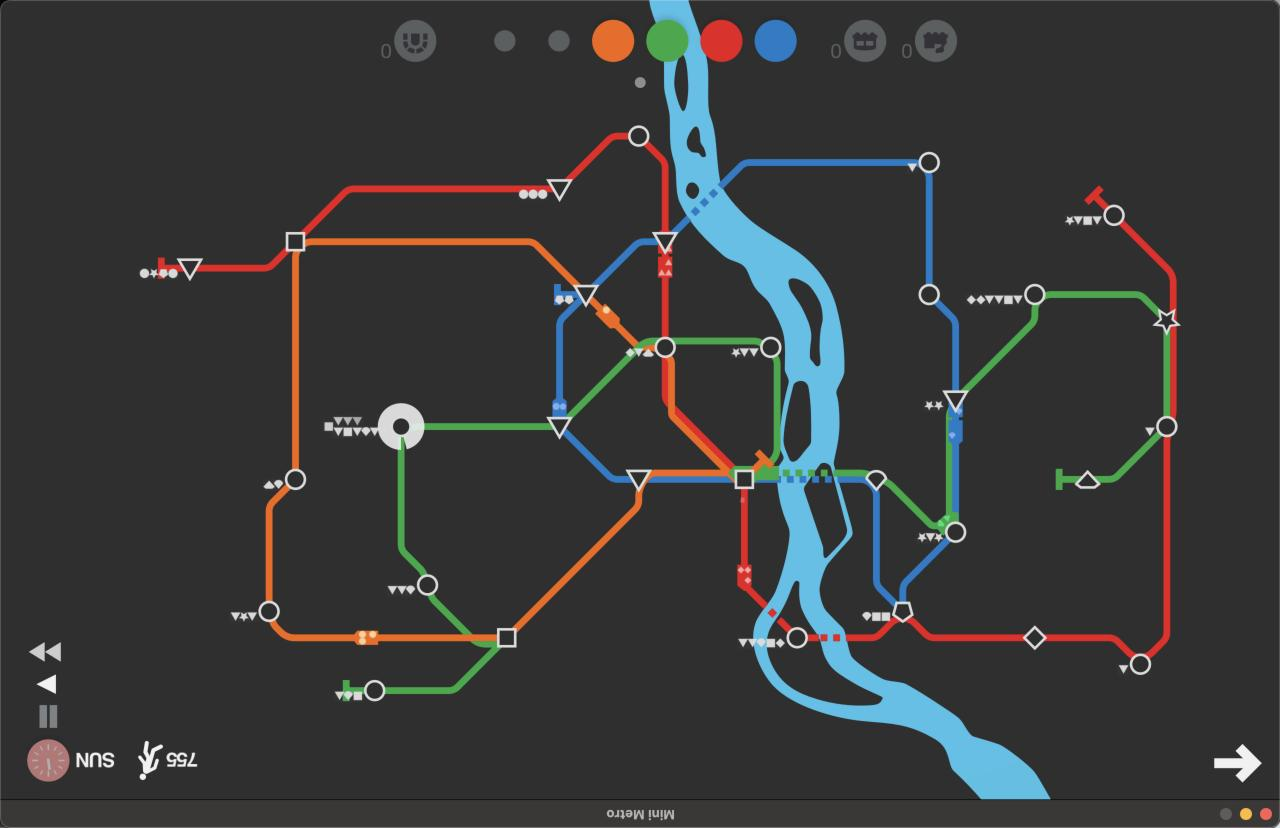BLUE LINE: (671, 158, 916, 232), (777, 475, 894, 605), (564, 429, 630, 484), (556, 298, 584, 417), (899, 540, 951, 600), (593, 237, 656, 284), (931, 300, 959, 389), (925, 173, 933, 285), (952, 409, 959, 514), (555, 283, 575, 305), (649, 477, 733, 482)
DARK GREEN LINE: (884, 415, 956, 531), (566, 338, 658, 415), (964, 307, 1038, 390), (384, 642, 499, 694), (397, 439, 426, 573), (1094, 432, 1161, 484), (1044, 292, 1161, 317), (428, 594, 471, 633), (424, 422, 550, 432), (756, 468, 869, 479), (769, 358, 779, 463), (671, 337, 761, 346), (1161, 329, 1170, 417), (1056, 470, 1078, 492), (342, 679, 361, 701)
ORANGE LINE: (515, 491, 642, 633), (308, 238, 580, 287), (648, 359, 731, 482), (271, 624, 494, 642), (265, 485, 290, 599), (591, 297, 634, 345), (291, 253, 299, 470), (751, 451, 771, 471), (644, 346, 652, 352)
RED LINE: (299, 184, 553, 235), (739, 490, 791, 631), (1120, 222, 1176, 311), (1149, 439, 1170, 656), (676, 407, 734, 470), (566, 133, 628, 178), (906, 619, 1023, 641), (646, 141, 672, 231), (1044, 634, 1134, 657), (197, 249, 286, 271), (808, 620, 896, 642), (657, 247, 669, 335), (1084, 185, 1109, 209), (1171, 328, 1177, 419), (158, 259, 182, 281), (662, 360, 669, 406)
